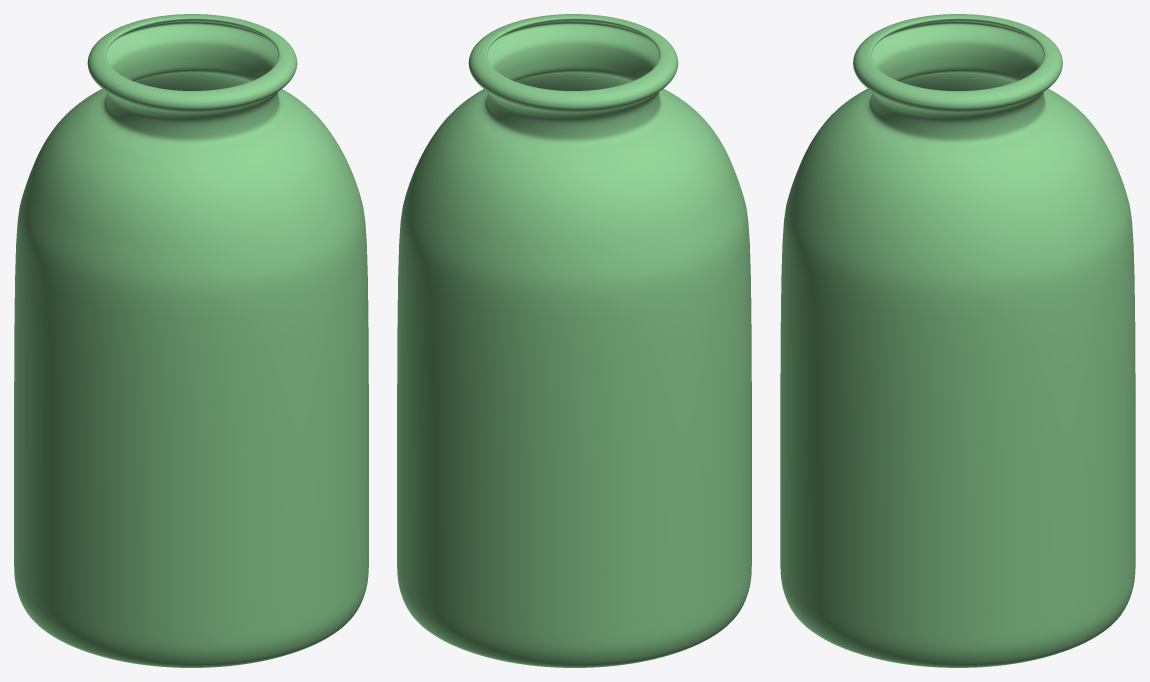
Rendered from Pot.fbx.
The picture shows the model from 3 angles, left to right: view 1: azimuth 30°, elevation 25°; view 2: azimuth 150°, elevation 25°; view 3: azimuth 270°, elevation 25°; orthographic projection.
Parts seen in each view (by area): view 1: Окружность; view 2: Окружность; view 3: Окружность.
Boxes of the visible parts, x1,y1,x2,y2 form: Окружность: (14,14,368,667); Окружность: (397,14,751,667); Окружность: (780,14,1135,667).
Bounding box in the file's own units: 223 × 382 × 223.
